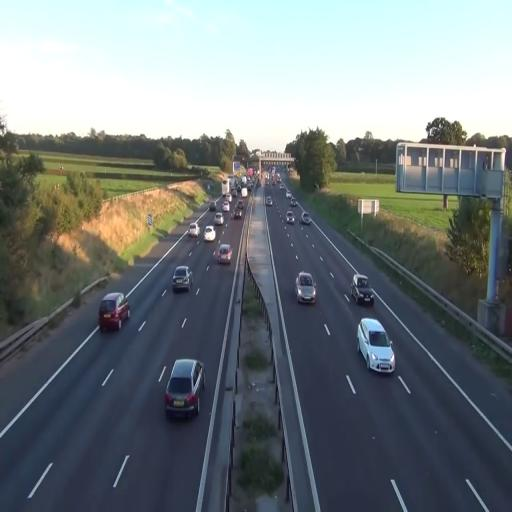vehicle: (165, 357, 205, 422), (356, 317, 396, 375), (98, 292, 130, 332), (295, 272, 317, 306), (172, 265, 192, 294), (353, 274, 372, 304), (354, 281, 374, 306), (214, 243, 232, 264), (204, 226, 216, 244), (188, 223, 198, 239), (300, 212, 310, 224), (286, 212, 295, 224)
